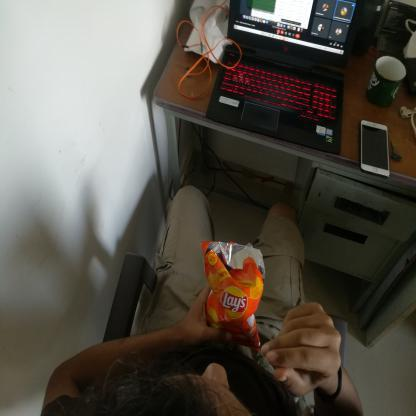hot_and_sweet: (200, 243, 263, 347)
